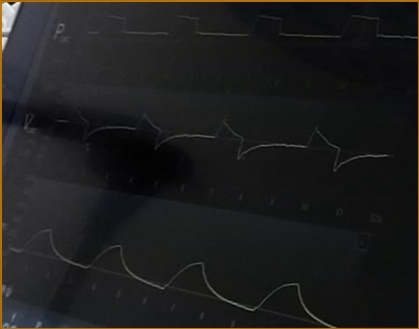Normal Flow: (56, 93, 388, 173)
Normal Volume: (9, 227, 338, 326)
